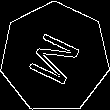M_SE: (23, 26, 87, 89)
